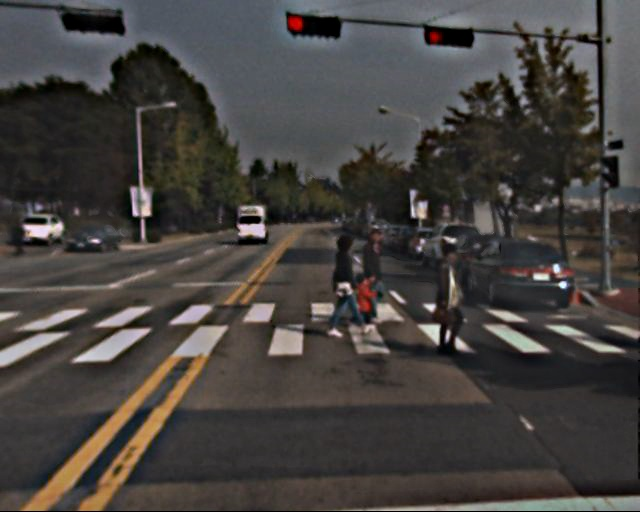person: (427, 246, 474, 360), (325, 234, 368, 338), (354, 227, 395, 327)
